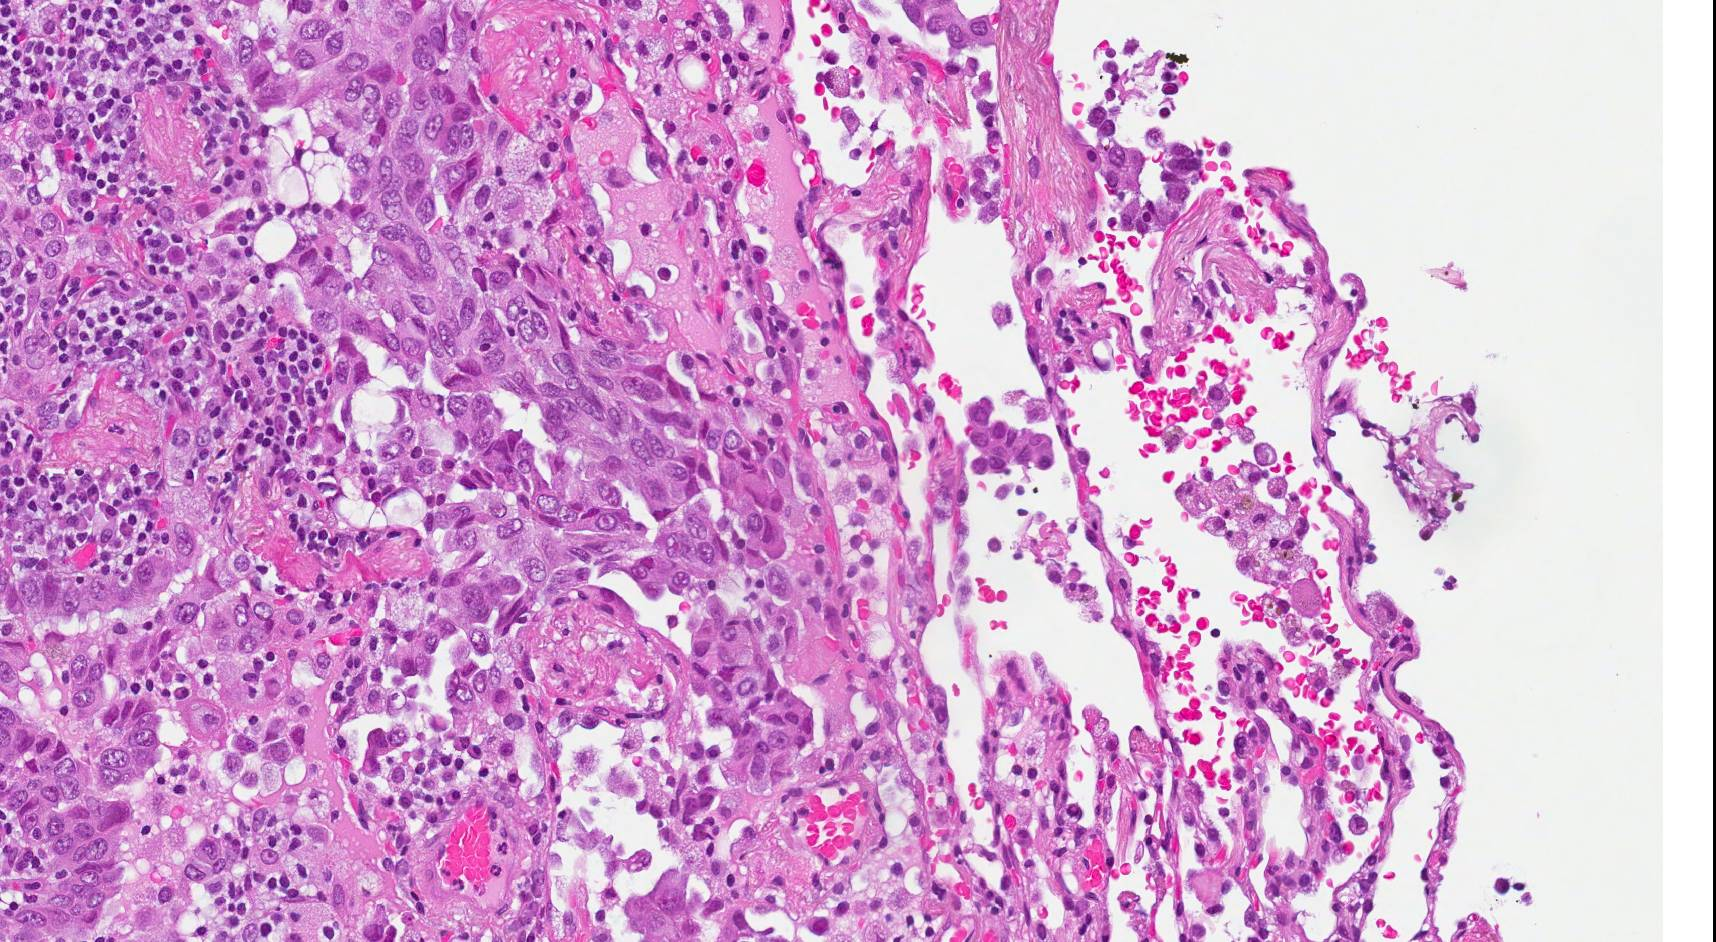stas: (1084, 106, 1210, 237), (955, 392, 1060, 480)
